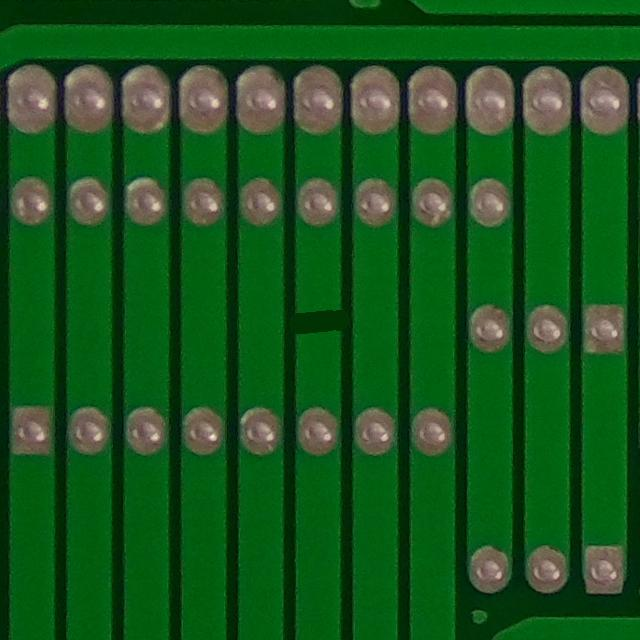open_circuit: (289, 292, 351, 349)
